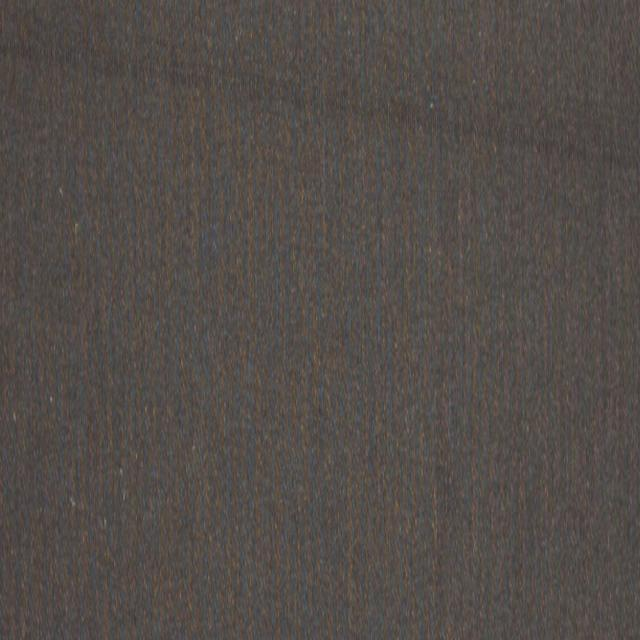Line: (3, 31, 640, 183)
